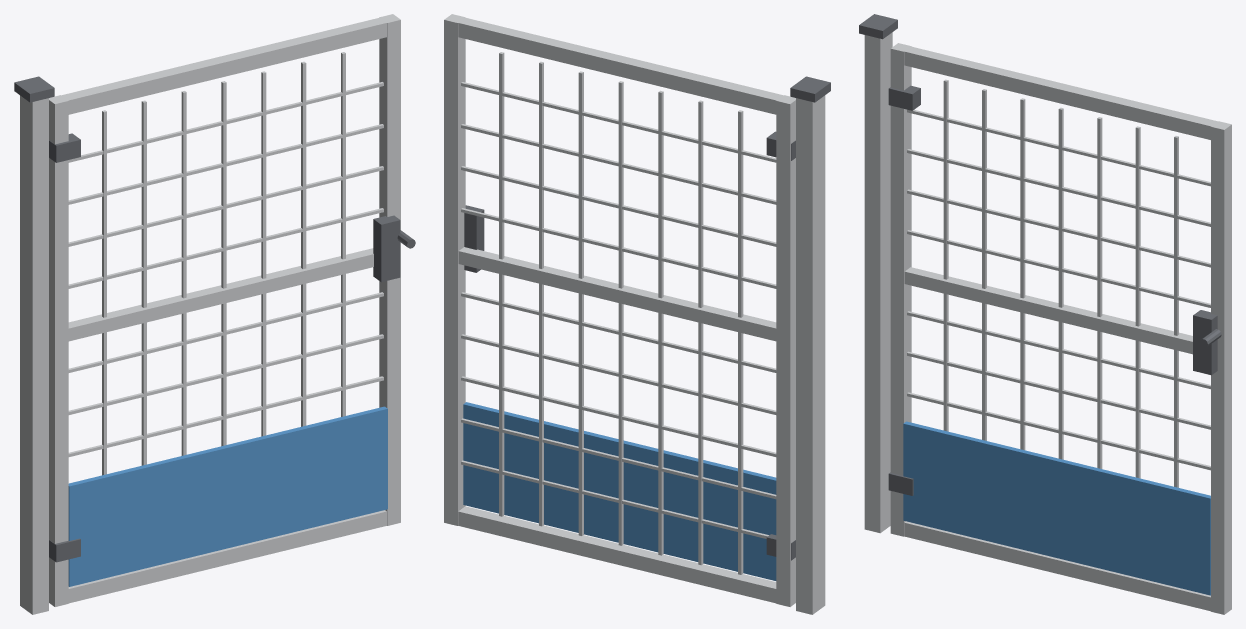
Rendered from boarding-kennels-and-cattery-boarding-kennels-and-catt-bf46e8b1__35535.glb.
3 renders of one model, left to right at view 1: azimuth 30°, elevation 25°; view 2: azimuth 150°, elevation 25°; view 3: azimuth 330°, elevation 25°, orthographic. The views are drawn at different scales.
Parts seen in each view (by area): view 1: gate-leaf/steel, gate-leaf/blue, boarding-kennels-and-cattery-kennel-gate, gate-leaf/charcoal; view 2: gate-leaf/steel, gate-leaf/blue, boarding-kennels-and-cattery-kennel-gate, gate-leaf/charcoal; view 3: gate-leaf/steel, gate-leaf/blue, boarding-kennels-and-cattery-kennel-gate, gate-leaf/charcoal.
Boxes of the visible parts, x1,y1,x2,y2 form: gate-leaf/steel: (49, 14, 400, 606); gate-leaf/blue: (68, 406, 387, 586); boarding-kennels-and-cattery-kennel-gate: (14, 76, 54, 614); gate-leaf/charcoal: (49, 133, 415, 562); gate-leaf/steel: (444, 14, 795, 606); gate-leaf/blue: (463, 402, 776, 580); boarding-kennels-and-cattery-kennel-gate: (790, 76, 830, 614); gate-leaf/charcoal: (464, 131, 795, 560); gate-leaf/steel: (890, 43, 1231, 614); gate-leaf/blue: (903, 421, 1210, 595); boarding-kennels-and-cattery-kennel-gate: (859, 14, 897, 533); gate-leaf/charcoal: (888, 85, 1221, 495).
Size of the model in its own units: 1.37 by 1.82 by 0.175.
